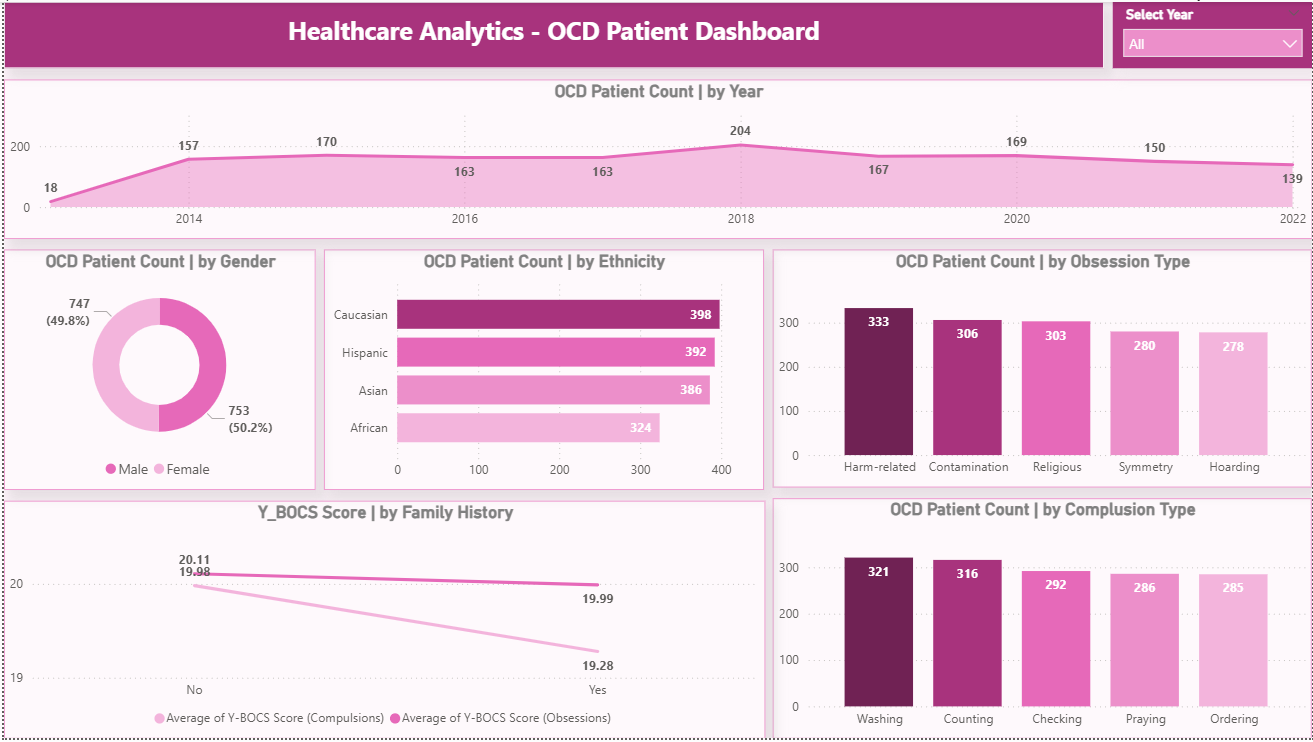

The page's visual inventory and layout, read from the dashboard file:
{"tool":"powerbi","page":{"name":"Healthcare Dashboard","canvas":[1280,720],"ordinal":0},"visuals":[{"type":"donutChart","title":"OCD Patient Count | by Gender","fields":{"Category":["ocd_patient_dataset.Gender"],"Y":["CountNonNull(ocd_patient_dataset.Patient ID)"]},"box":[980,236.2,300,235],"z":0},{"type":"clusteredColumnChart","title":"OCD Patient Count | by Obsession Type","fields":{"Y":["CountNonNull(ocd_patient_dataset.Patient ID)"],"Category":["ocd_patient_dataset.Obsession Type"]},"box":[0,487.9,527,232.3],"z":1000},{"type":"textbox","box":[0,0,1280,51.2],"z":2000},{"type":"barChart","title":"OCD Patient Count | by Ethnicity","fields":{"Category":["ocd_patient_dataset.Ethnicity"],"Y":["CountNonNull(ocd_patient_dataset.Patient ID)"]},"box":[545,236.2,420,235],"z":3000},{"type":"clusteredColumnChart","title":"OCD Patient Count | by Complusion Type","fields":{"Y":["CountNonNull(ocd_patient_dataset.Patient ID)"],"Category":["ocd_patient_dataset.Compulsion Type"]},"box":[0,236.2,527.5,235],"z":4000},{"type":"lineChart","title":"Y_BOCS Score | by Family History","fields":{"Y":["Avg(ocd_patient_dataset.Y-BOCS Score (Compulsions))","Avg(ocd_patient_dataset.Y-BOCS Score (Obsessions))"],"Category":["ocd_patient_dataset.Family History of OCD"]},"box":[545,487.5,735,232.5],"z":5000},{"type":"areaChart","title":"OCD Patient Count | by Year","fields":{"Category":["ocd_patient_dataset.OCD Diagnosis Date.Variation.Date Hierarchy.Year"],"Y":["CountNonNull(ocd_patient_dataset.Patient ID)"]},"box":[0,66,1280.3,156.5],"z":6000}]}

Visuals, with their boxes in screenshot pixels (x1, y1, x2, y2), scaled from the page's 1280x720 canvas onto the 1313x742 screenshot:
"OCD Patient Count | by Gender" donutChart: (left=1005, top=243, right=1312, bottom=486)
"OCD Patient Count | by Obsession Type" clusteredColumnChart: (left=0, top=503, right=541, bottom=741)
textbox: (left=0, top=0, right=1312, bottom=53)
"OCD Patient Count | by Ethnicity" barChart: (left=559, top=243, right=990, bottom=486)
"OCD Patient Count | by Complusion Type" clusteredColumnChart: (left=0, top=243, right=541, bottom=486)
"Y_BOCS Score | by Family History" lineChart: (left=559, top=502, right=1312, bottom=741)
"OCD Patient Count | by Year" areaChart: (left=0, top=68, right=1312, bottom=229)
